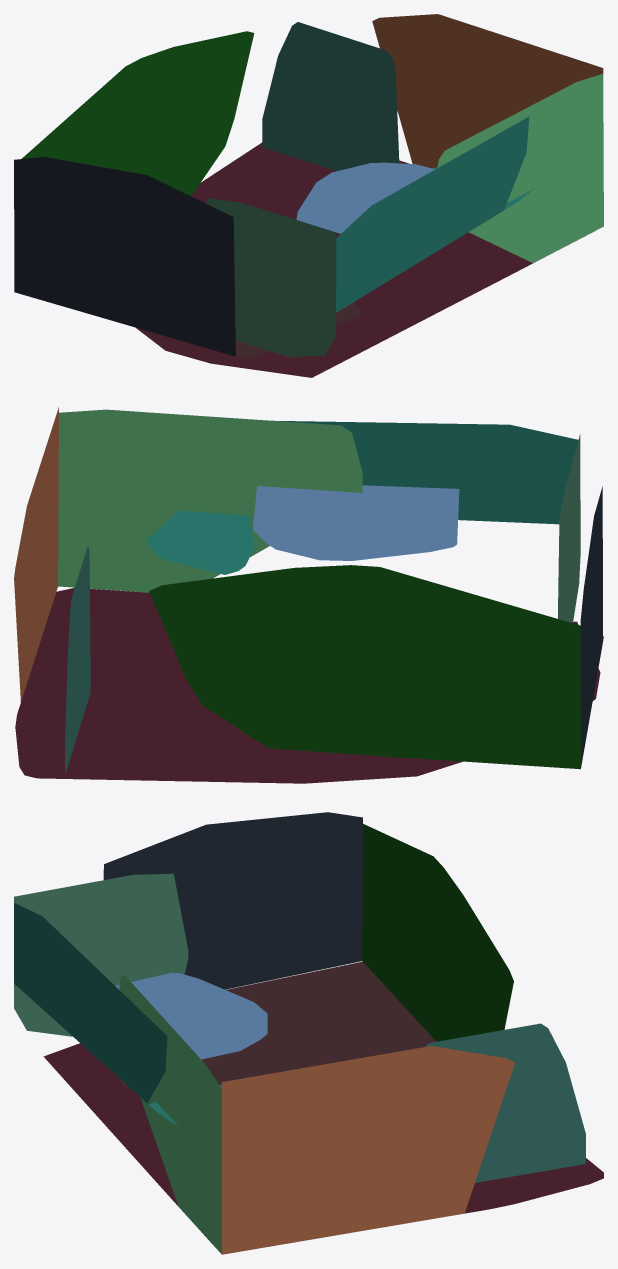
The model's file is PlanarRecon-scene0427_00.glb.
3 views of the same model, one above another, from view 1: azimuth 30°, elevation 25°; view 2: azimuth 150°, elevation 25°; view 3: azimuth 270°, elevation 25° (orthographic). The views are drawn at different scales.
Parts seen in each view (by area): view 1: piecewise-PlanarRecon-scene0427_00_lean; view 2: piecewise-PlanarRecon-scene0427_00_lean; view 3: piecewise-PlanarRecon-scene0427_00_lean.
Part boxes in pixels (left/top/right/bottom): piecewise-PlanarRecon-scene0427_00_lean: left=14, top=14, right=603, bottom=377; piecewise-PlanarRecon-scene0427_00_lean: left=14, top=407, right=603, bottom=783; piecewise-PlanarRecon-scene0427_00_lean: left=14, top=812, right=603, bottom=1254.
Bounding box in the file's own units: 3.83 × 1.27 × 3.44.
